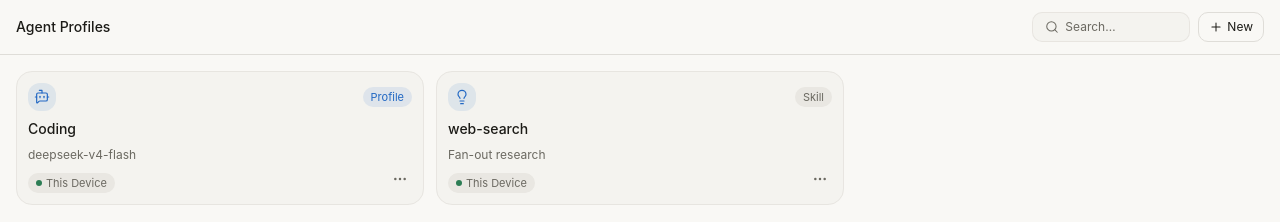
it: BrowseView › filters cards by the search query
This screenshot has width=1280, height=222.
In the field with placeholder "Search…": x=1121, y=27 left=1065, top=19, right=1177, bottom=35, type "coding"
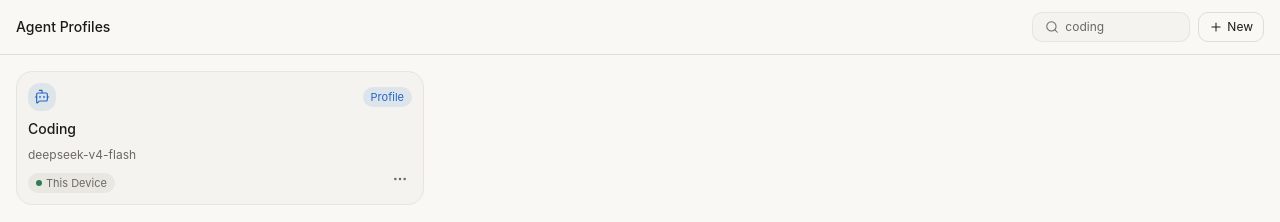
expect the button named "Coding" is shown: met, box left=16, top=71, right=424, bottom=205
expect the text "web-search" is gone: met
